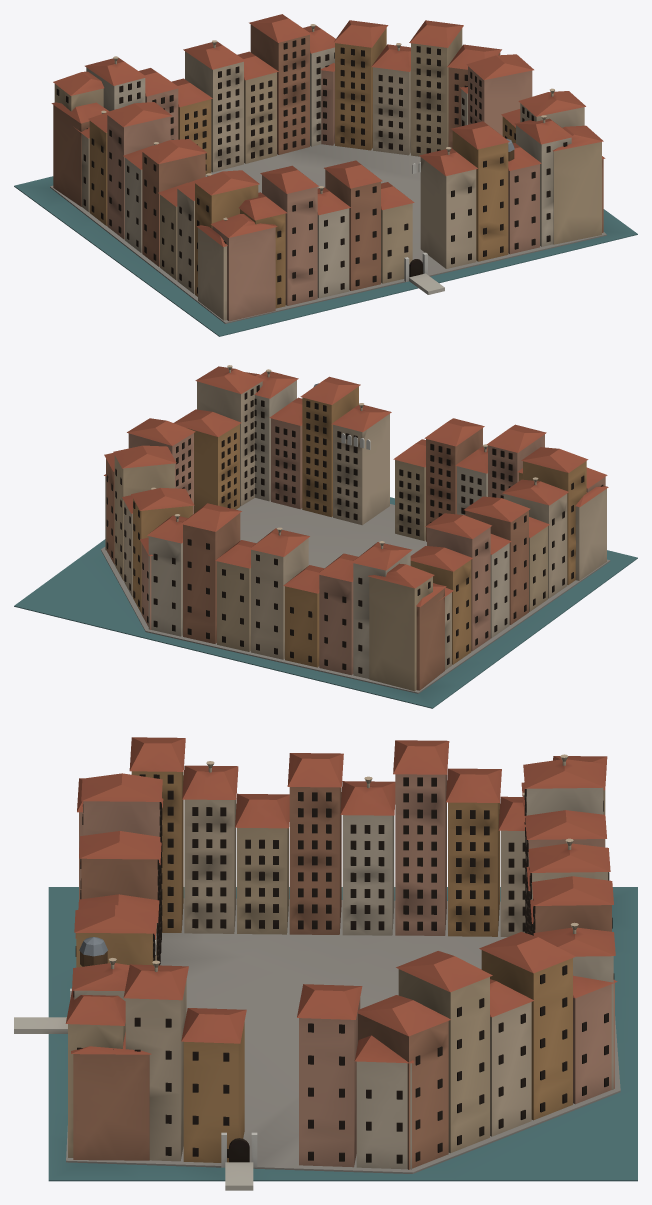
Rendered from ghetto.glb.
3 views of the same model, one above another, from view 1: azimuth 30°, elevation 25°; view 2: azimuth 150°, elevation 25°; view 3: azimuth 270°, elevation 25° (orthographic). The views are drawn at different scales.
Visible parts, largest first — view 1: p1_houses, p2_roofs, p0_water; view 2: p1_houses, p2_roofs, p0_water; view 3: p1_houses, p0_water, p2_roofs.
Boxes of the visible parts, bbox=[...] form: p1_houses: bbox=[53, 24, 603, 321]; p2_roofs: bbox=[51, 14, 605, 294]; p0_water: bbox=[14, 143, 637, 336]; p1_houses: bbox=[105, 380, 606, 691]; p2_roofs: bbox=[104, 365, 608, 607]; p0_water: bbox=[14, 497, 637, 708]; p1_houses: bbox=[68, 771, 614, 1169]; p0_water: bbox=[48, 887, 637, 1181]; p2_roofs: bbox=[14, 737, 617, 1190].
Bounding box in the file's own units: 105 × 29.54 × 90.
